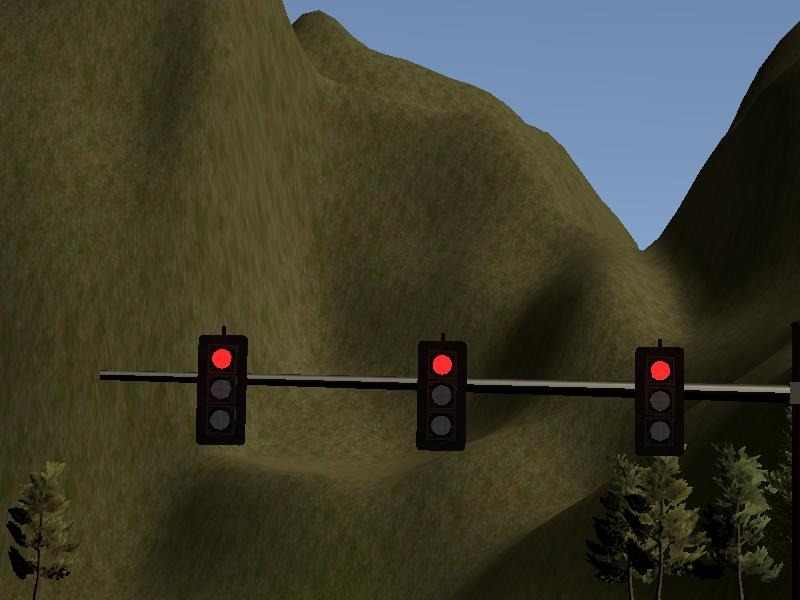red: (195, 336, 249, 445), (633, 347, 687, 456), (415, 340, 469, 449)
